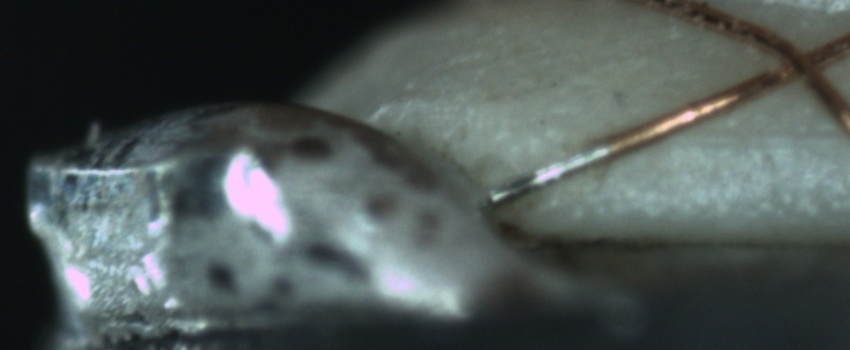CL: (755, 28, 842, 95)
DL: (649, 107, 850, 171)
TS: (483, 140, 611, 208)
